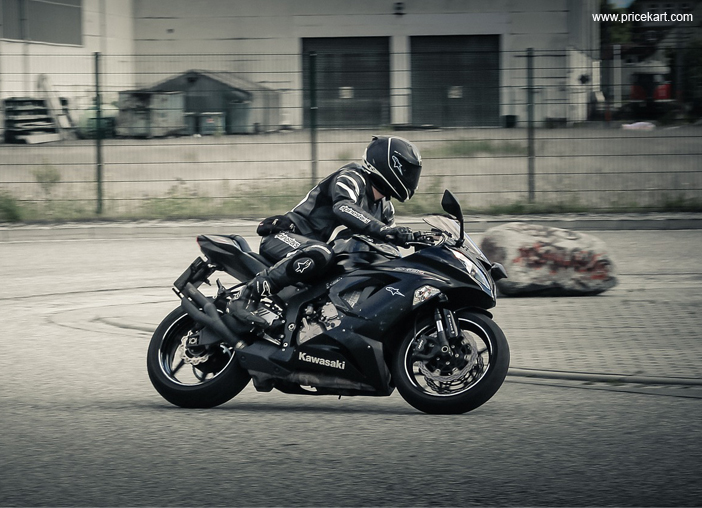Bike: (140, 231, 517, 419)
